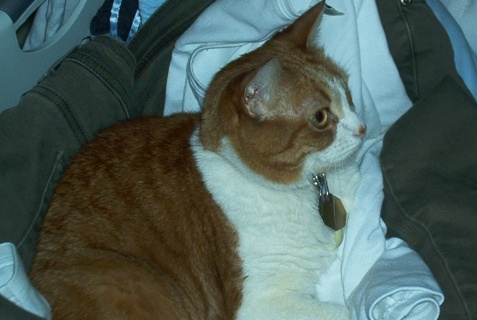Cat: (27, 0, 368, 319)
